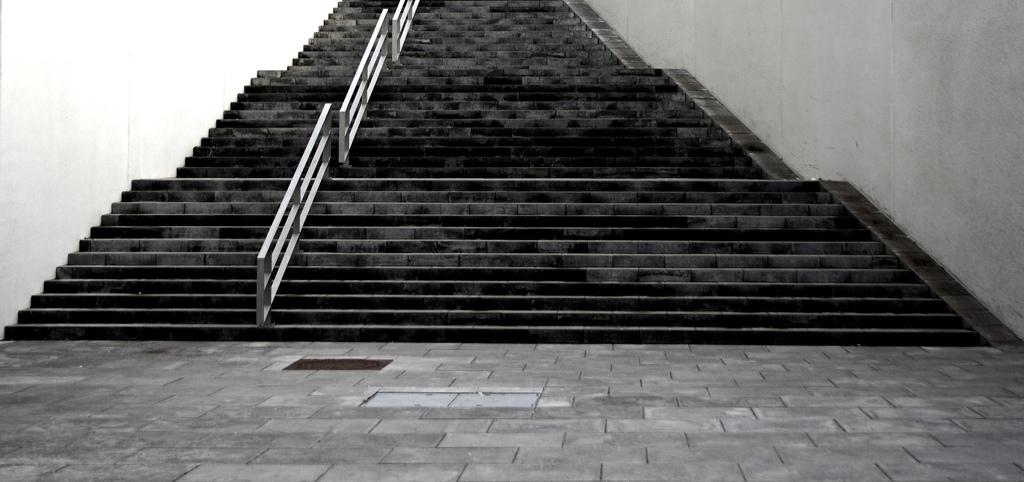stairs: (0, 3, 989, 343)
